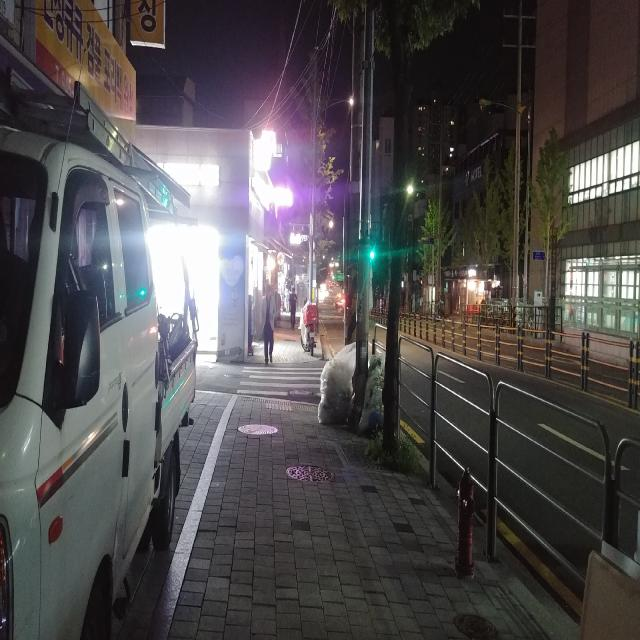횡단보도: (236, 366, 324, 398)
